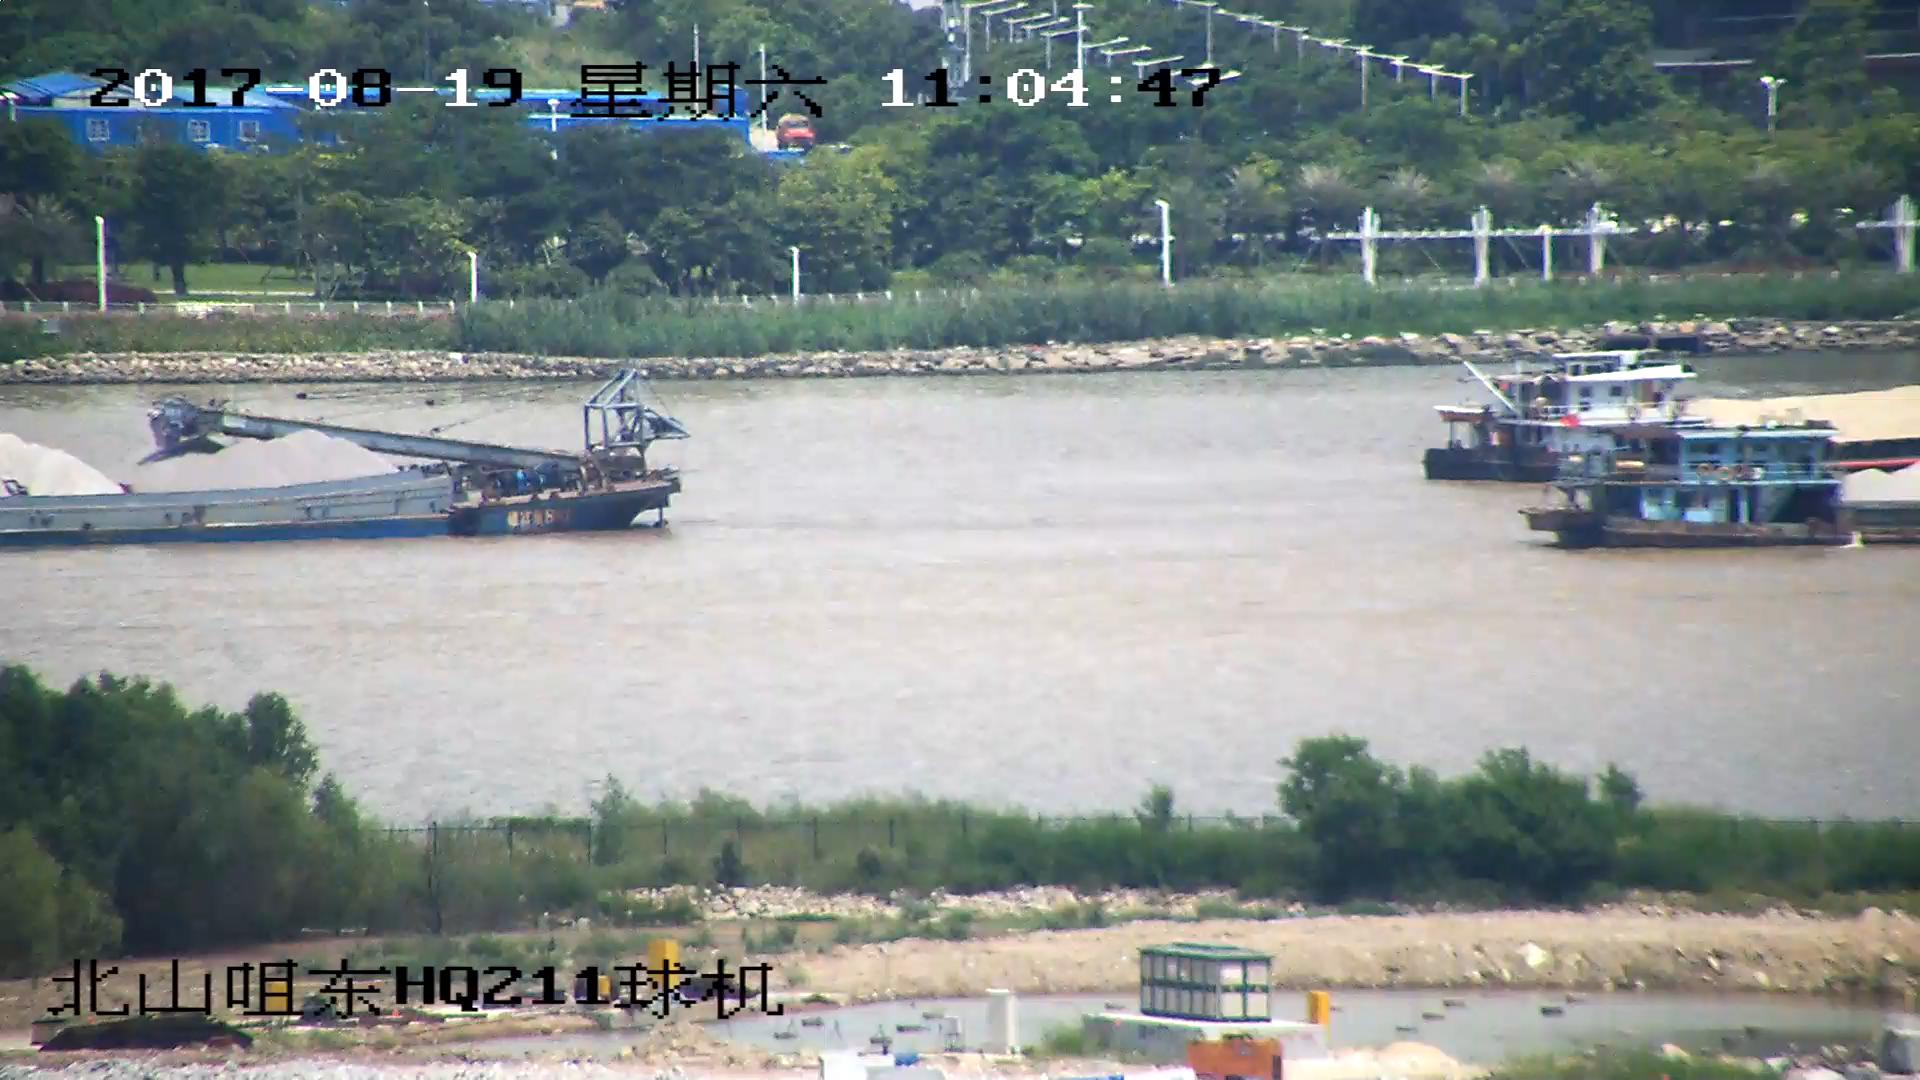ore carrier: (1, 370, 690, 538), (1424, 362, 1920, 486), (1532, 423, 1920, 540)
